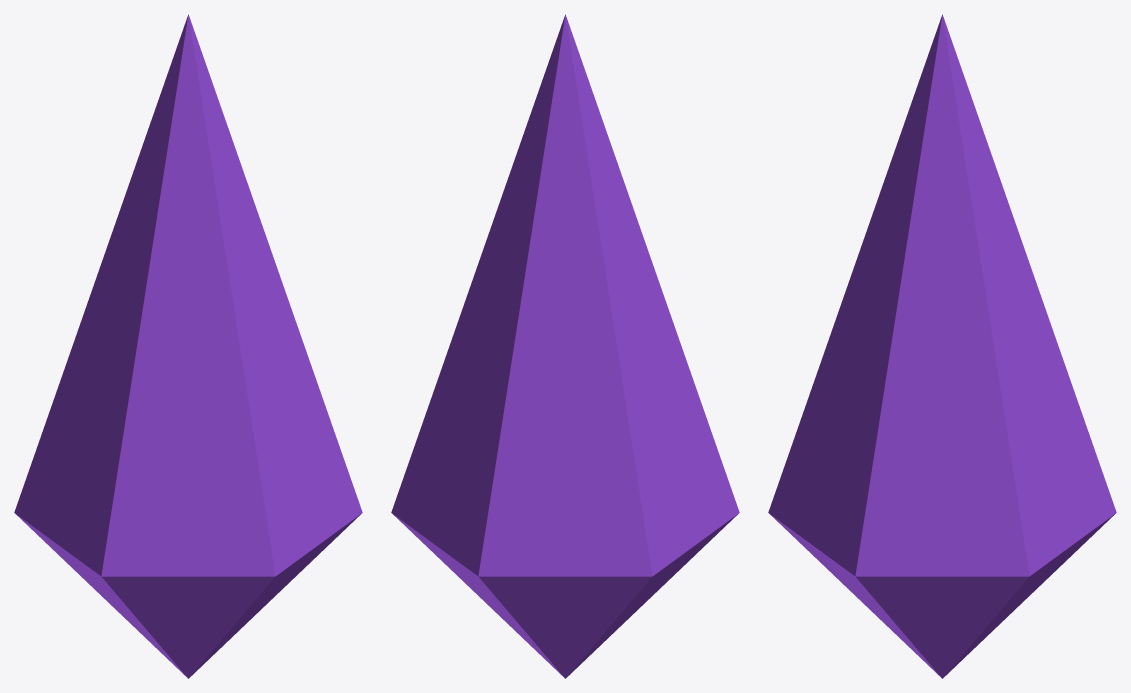
Rendered from spire_core.fbx.
3 renders of one model, left to right at view 1: azimuth 30°, elevation 25°; view 2: azimuth 150°, elevation 25°; view 3: azimuth 270°, elevation 25°, orthographic.
Visible parts, largest first — view 1: part_core; view 2: part_core; view 3: part_core.
Part boxes in pixels (x1,y1,x2,y2): part_core: (14,14,362,678); part_core: (391,14,739,678); part_core: (768,14,1116,678).
Size of the model in its own units: 0.511 by 1.24 by 0.5901.
